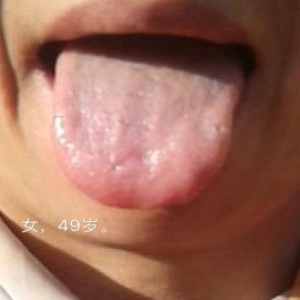st: (47, 51, 245, 216)
